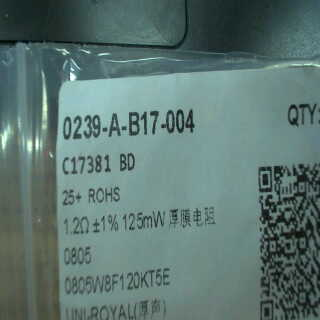1.2R: (61, 214, 92, 268)
